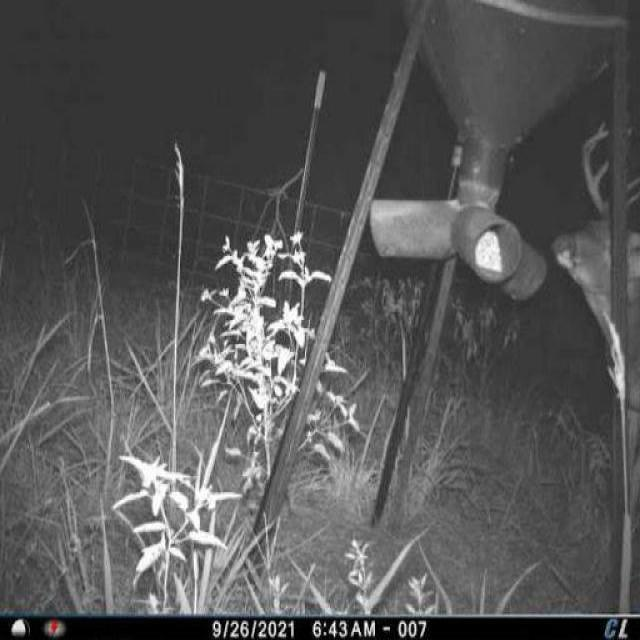deer: (542, 107, 640, 604)
